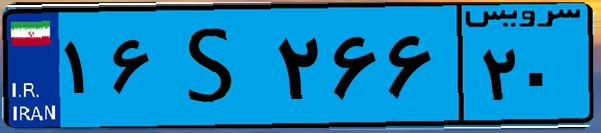0: (525, 38, 570, 115)
1: (57, 26, 110, 100)
2: (270, 28, 330, 110), (475, 38, 525, 113)
6: (385, 28, 445, 110), (330, 28, 385, 110), (110, 28, 158, 98)
S: (158, 12, 270, 120)
